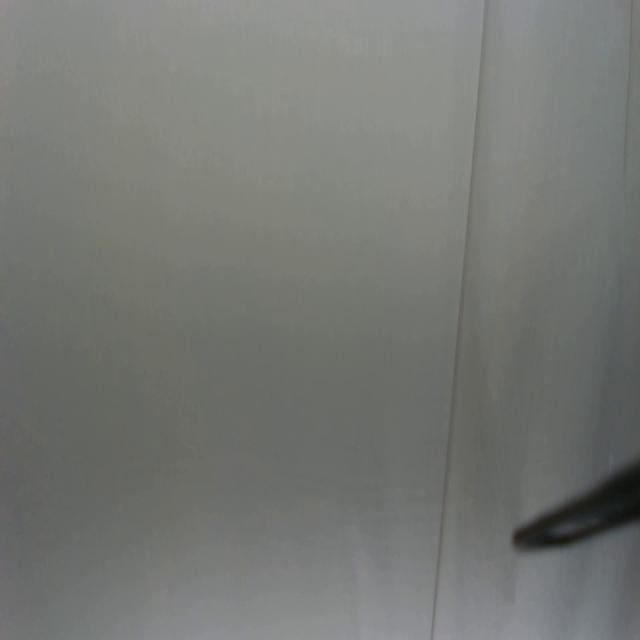crease: (429, 0, 489, 640), (622, 0, 635, 172)
